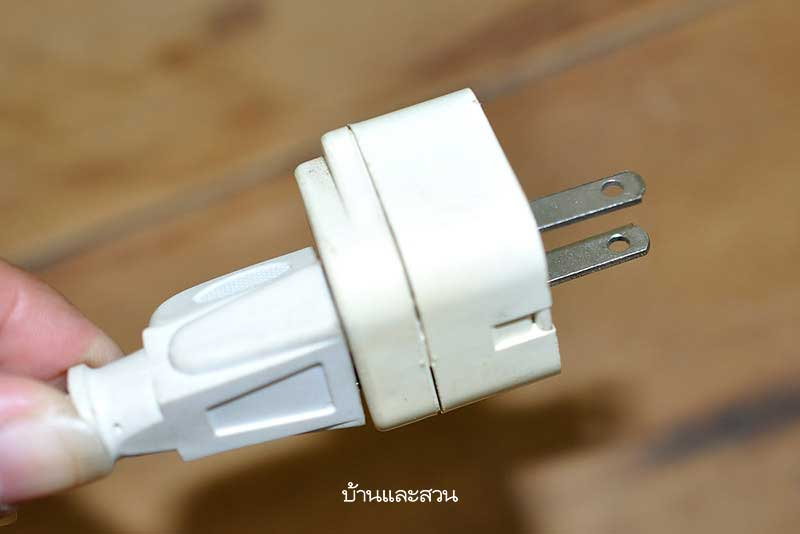Three_eye_plug: (289, 79, 670, 440)
